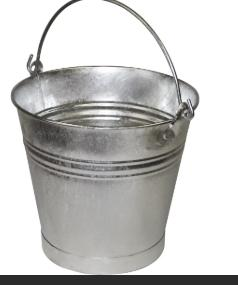SEAU: (4, 3, 232, 279)
